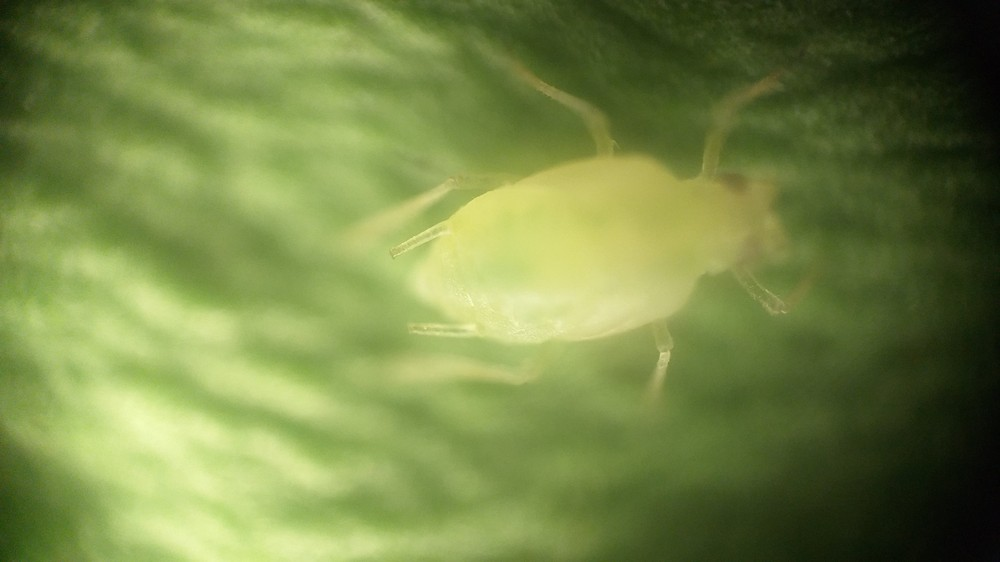Pulgon: (340, 66, 857, 397)
